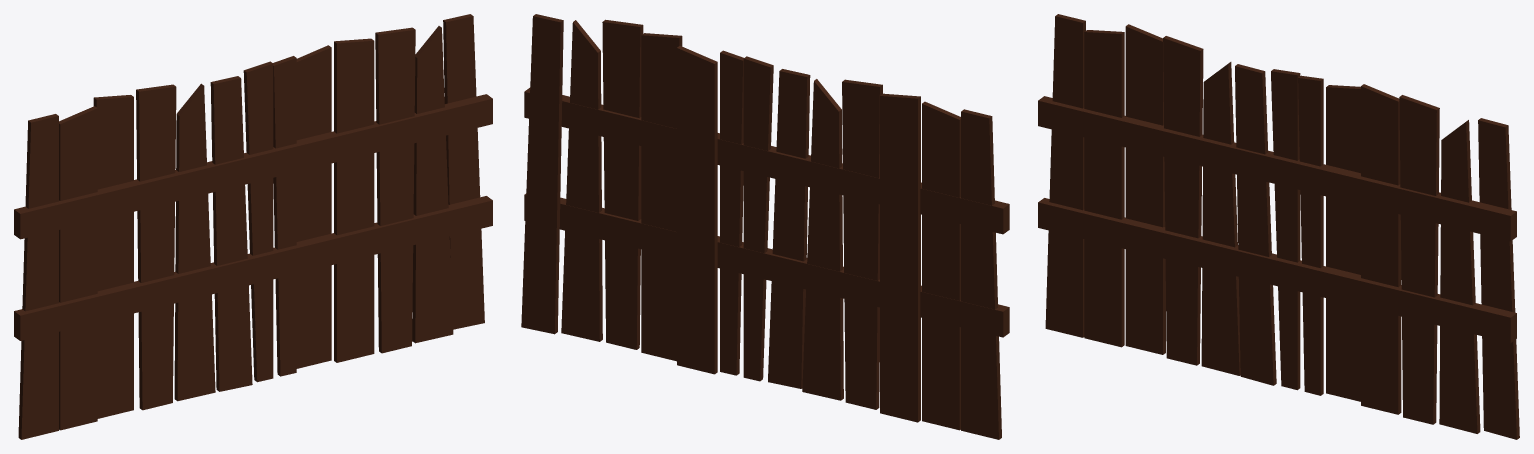
Rendered from valla.fbx.
The picture shows the model from 3 angles, left to right: view 1: azimuth 30°, elevation 25°; view 2: azimuth 150°, elevation 25°; view 3: azimuth 330°, elevation 25°; orthographic projection.
Visible parts, largest first — view 1: Cube.011; view 2: Cube.011; view 3: Cube.011.
Boxes of the visible parts, x1,y1,x2,y2 form: Cube.011: [14, 14, 492, 439]; Cube.011: [521, 14, 1009, 439]; Cube.011: [1038, 14, 1519, 439].
Size of the model in its own units: 314 by 203 by 11.57.
